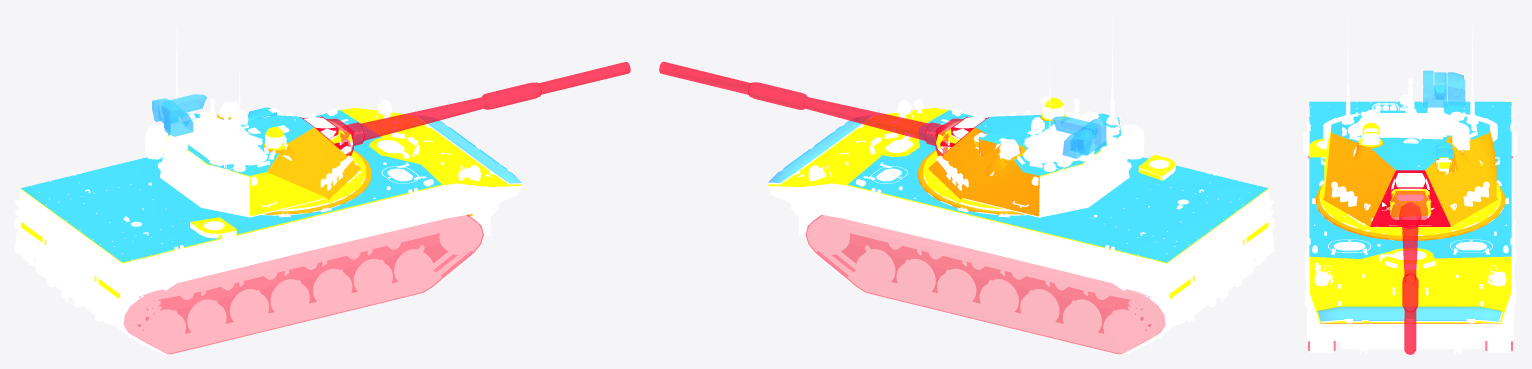
The model's file is SPRUTMGS.gltf.
The picture shows the model from 3 angles, left to right: view 1: azimuth 30°, elevation 25°; view 2: azimuth 150°, elevation 25°; view 3: azimuth 270°, elevation 25°; orthographic projection.
Parts seen in each view (by area): view 1: 13, Sprut_Track_R_Col_198, Sprut_Col_1, 13_4, 13_1, 13_2, Sprut_Col, Sprut_Gun_Col_186, Sprut_Turret_Col, Sprut_Turret_Col_1, Sprut_Turret_Col_2, Sprut_Waterramp_Col_201 (+3 smaller); view 2: 13, Sprut_Track_L_Col_195, Sprut_Col_1, 13_1, 13_4, 13_3, Sprut_Col, Sprut_Turret_Col, Sprut_Gun_Col_186, Sprut_Turret_Col_2, Sprut_Turret_Col_1, Sprut_Waterramp_Col_201 (+3 smaller); view 3: 13, Sprut_Col, Sprut_Col_1, Sprut_Turret_Col, 13_4, Sprut_Gun_Col_186, Sprut_Turret_Col_1, Sprut_Turret_Col_2, Sprut_Waterramp_Col_201, Sprut_Turret_Col_3, Sprut_Col_2, Sprut_RWS_Turret_Col_204 (+3 smaller).
Part boxes in pixels (<box>): 13: <box>14,99,521,325</box>; Sprut_Track_R_Col_198: <box>124,215,483,354</box>; Sprut_Col_1: <box>21,110,441,262</box>; 13_4: <box>144,27,365,217</box>; 13_1: <box>23,227,471,345</box>; 13_2: <box>113,215,482,354</box>; Sprut_Col: <box>20,108,521,298</box>; Sprut_Gun_Col_186: <box>326,62,630,155</box>; Sprut_Turret_Col: <box>217,114,360,199</box>; Sprut_Turret_Col_1: <box>165,108,366,216</box>; Sprut_Turret_Col_2: <box>168,107,313,175</box>; Sprut_Waterramp_Col_201: <box>419,116,521,183</box>; 13: <box>768,99,1274,325</box>; Sprut_Track_L_Col_195: <box>805,215,1165,354</box>; Sprut_Col_1: <box>848,110,1268,262</box>; 13_1: <box>817,227,1265,345</box>; 13_4: <box>923,14,1144,217</box>; 13_3: <box>806,215,1175,354</box>; Sprut_Col: <box>768,108,1268,298</box>; Sprut_Turret_Col: <box>928,116,1065,216</box>; Sprut_Gun_Col_186: <box>659,61,962,155</box>; Sprut_Turret_Col_2: <box>975,113,1121,175</box>; Sprut_Turret_Col_1: <box>923,97,1119,216</box>; Sprut_Waterramp_Col_201: <box>768,115,871,182</box>; 13: <box>1303,102,1517,354</box>; Sprut_Col: <box>1309,101,1511,323</box>; Sprut_Col_1: <box>1309,101,1511,258</box>; Sprut_Turret_Col: <box>1323,126,1497,226</box>; 13_4: <box>1319,14,1501,235</box>; Sprut_Gun_Col_186: <box>1386,191,1434,354</box>; Sprut_Turret_Col_1: <box>1319,123,1501,235</box>; Sprut_Turret_Col_2: <box>1331,110,1489,170</box>; Sprut_Waterramp_Col_201: <box>1317,306,1501,321</box>; Sprut_Turret_Col_3: <box>1370,170,1450,226</box>; Sprut_Col_2: <box>1316,183,1505,323</box>; Sprut_RWS_Turret_Col_204: <box>1423,70,1465,107</box>.
Bounding box in the file's own units: 9.55 × 4.2 × 3.17.
